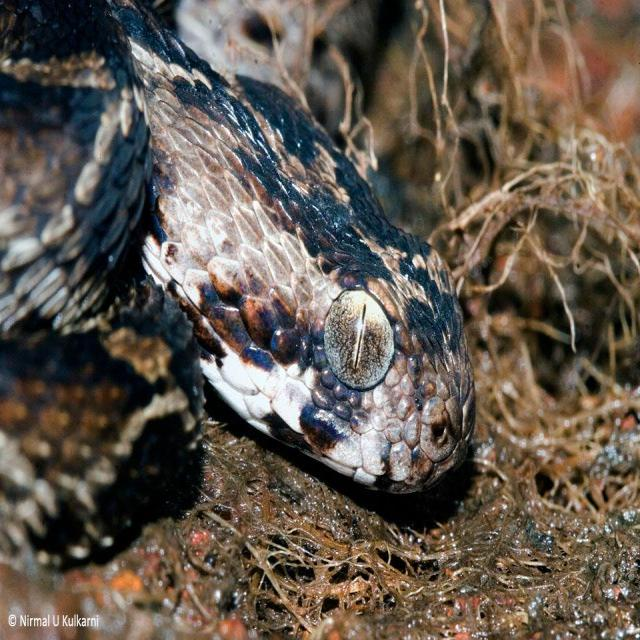Snake: (0, 0, 477, 496)
